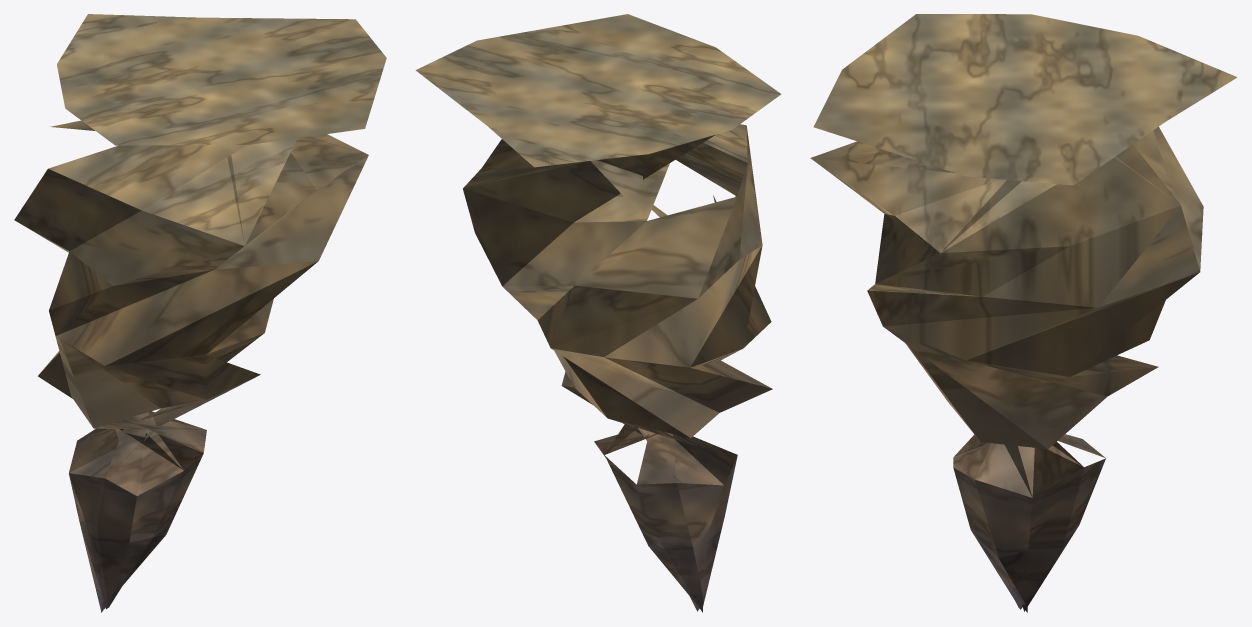
The model's file is hanging_crag_sky_b.glb.
3 renders of one model, left to right at view 1: azimuth 30°, elevation 25°; view 2: azimuth 150°, elevation 25°; view 3: azimuth 270°, elevation 25°, orthographic. The views are drawn at different scales.
Visible parts, largest first — view 1: hanging_crag_sky_b; view 2: hanging_crag_sky_b; view 3: hanging_crag_sky_b.
Boxes of the visible parts, bbox=[...] form: hanging_crag_sky_b: bbox=[14, 14, 386, 612]; hanging_crag_sky_b: bbox=[415, 14, 781, 612]; hanging_crag_sky_b: bbox=[810, 14, 1237, 612].
Bounding box in the file's own units: 3 × 4.57 × 3.06.
1 material, 1 textured.
